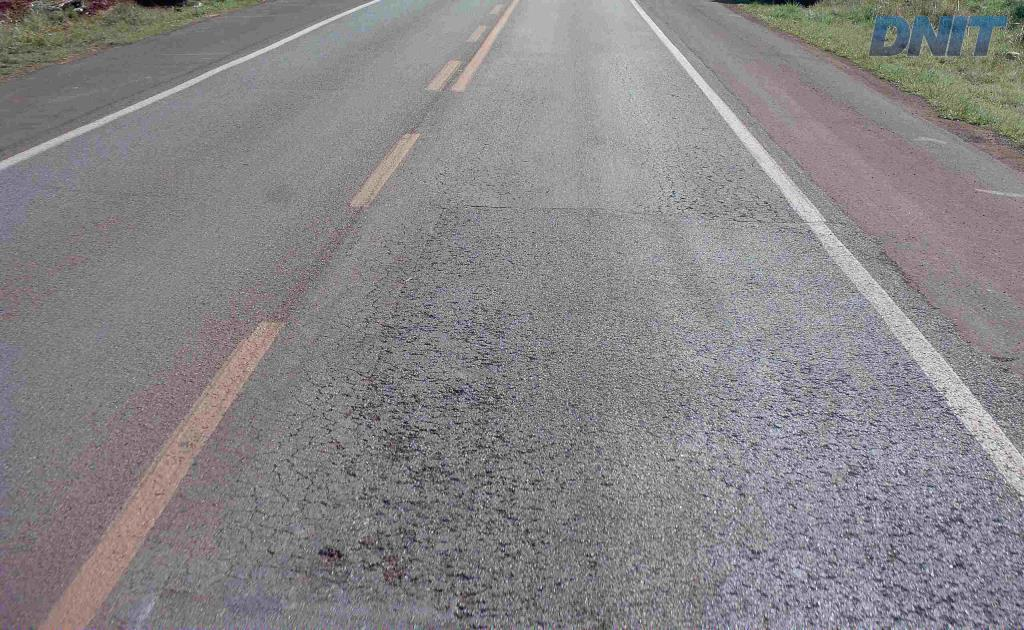crack: (343, 301, 542, 436), (368, 419, 514, 497), (361, 517, 428, 587), (369, 302, 443, 348), (435, 566, 498, 618), (314, 544, 352, 576)
